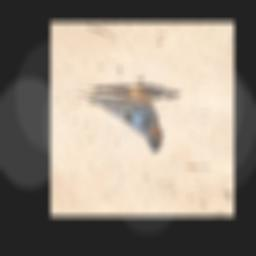Swallow: (76, 88, 166, 153)
